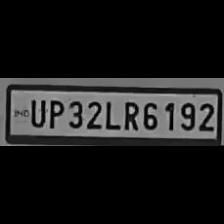1: (160, 99, 176, 131)
2: (196, 99, 216, 131), (84, 98, 103, 130)
3: (65, 97, 83, 129)
6: (139, 99, 159, 131)
9: (176, 99, 196, 131)
L: (103, 98, 120, 130)
P: (44, 96, 64, 128)
R: (121, 98, 139, 130)
U: (26, 96, 46, 127)
